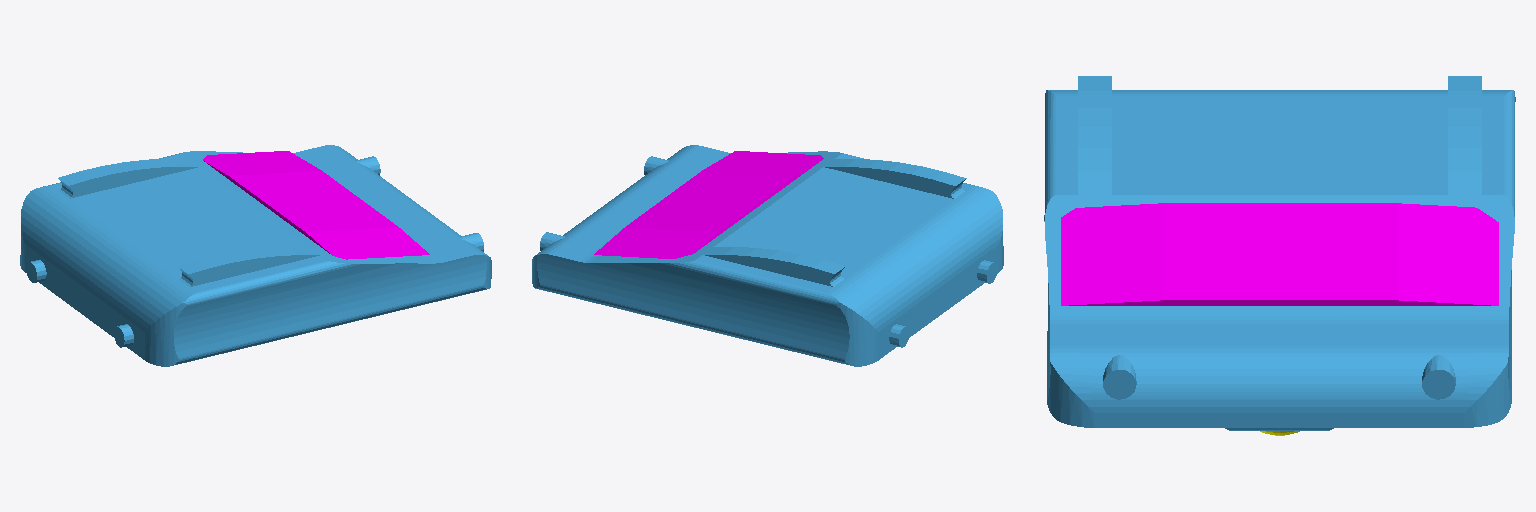
URDF robot description (diff_robot):
<robot name="diff_robot">
    <link name="base_link">  
    </link>
    <joint name="base_joint" type="fixed">
        <parent link="base_link"/>
        <child link="frame_link"/>
        <origin xyz="0.05 0.0 0.0" rpy="0.0 0.0 0.0"/>
    </joint>
    <link name="frame_link">
        <visual>
            <geometry>
                <mesh filename= "package://my_robot/urdf/Frame_final_3.stl" scale="0.01 0.01 0.01"/>
            </geometry>
            <origin xyz=" 0.0 0 0" rpy="1.57 0 3.14"/>
        </visual>
        <inertial>
            <mass value="15.0"/>
            <origin xyz="0.0 0 0"/>
            <inertia ixx="0.1" ixy="0.0" ixz="0.0" iyy="0.1" iyz="0.0" izz="0.1"/>
        </inertial>
        <collision>
            <geometry>
                <mesh filename= "package://my_robot/urdf/Frame_final_3.stl" scale="0.01 0.01 0.01"/>
            </geometry>
            <origin xyz=" 0.0 0 0" rpy="1.57 0 3.14"/>
        </collision>
    </link>
    <joint name="left_wheel_joint" type="continuous">
        <parent link="base_link"/>
        <child link="left_wheel_link"/>
        <origin xyz="0.0 0.08 0.0" rpy="-1.57 0.0 0.0"/>
        <axis xyz="0.0 0.0 1.0"/>   
    </joint>
    <link name="left_wheel_link">
        <visual>
            <geometry>
                <mesh filename= "package://my_robot/meshes/components/wheel.stl" scale="0.8 0.8 0.8"/>
            </geometry>
            <origin xyz="0.0 0.0 0.0" rpy="3.14 0.0 0.0"/>
            <material name="blue">
                <color rgba="0.0 0.0 1.0 1.0"/>
            </material>
        </visual>
        <inertial>
            <mass value="1.0"/>
            <origin xyz="0.0 0.0 0.0"/>
            <inertia ixx="0.1" ixy="0.0" ixz="0.0" iyy="0.1" iyz="0.0" izz="0.1"/>
        </inertial>
        <collision>
            <geometry>
                <mesh filename= "package://my_robot/meshes/components/wheel.stl" scale="0.8 0.8 0.8"/>
            </geometry>
            <origin xyz="0.0 0.0 0.0" rpy="3.14 0.0 0.0"/>
        </collision>
    </link>
    <joint name="right_wheel_joint" type="continuous">
        <parent link="base_link"/>
        <child link="right_wheel_link"/>
        <origin xyz="0.0 -0.08 0.0" rpy="1.57 0.0 0.0"/>
        <axis xyz="0.0 0.0 1.0"/>   
    </joint>
    <link name="right_wheel_link">
        <visual>
            <geometry>
                <mesh filename= "package://my_robot/meshes/components/wheel.stl" scale="0.8 0.8 0.8"/>
            </geometry>
            <origin xyz="0.0 0.0 0.0" rpy="3.14 0.0 0.0"/>
            <material name="blue">
                <color rgba="0.0 0.0 1.0 1.0"/>
            </material>
        </visual>
        <inertial>
            <mass value="1.0"/>
            <origin xyz="0.0 0.0 0.0"/>
            <inertia ixx="0.1" ixy="0.0" ixz="0.0" iyy="0.1" iyz="0.0" izz="0.1"/>
        </inertial>
        <collision>
            <geometry>
                <mesh filename= "package://my_robot/meshes/components/wheel.stl" scale="0.8 0.8 0.8"/>
            </geometry>
            <origin xyz="0.0 0.0 0.0" rpy="3.14 0.0 0.0"/>
        </collision>
    </link>
    <joint name="caster_joint" type="fixed">
        <parent link="base_link"/>
        <child link="caster_link"/>
        <origin xyz="0.19 0.0 0.0"/>        
    </joint>
    <link name="caster_link">
        <visual>
            <geometry>
                <sphere radius="0.015"/>
            </geometry>
            <origin xyz="-0.08 0.0 0.0"/>
            <material name="yellow">
                <color rgba="1.0 1.0 0.0 1.0"/>
            </material>
        </visual>
        <inertial>
            <mass value="1e-5"/>
            <origin xyz="-0.08 0.0 0.0"/>
            <inertia ixx="1e-6" ixy="0" ixz="0" iyy="1e-6" iyz="0" izz="1e-6"/>
        </inertial>
        <collision>
            <geometry>
                <sphere radius="0.015"/>
            </geometry>
            <origin xyz="-0.08 0.0 0.0"/>
        </collision>
    </link>

    <link name="camera_link">
        <visual>
            <geometry>
                <mesh filename= "package://my_robot/urdf/camera_v3.stl" scale="0.01 0.01 0.01"/>
            </geometry>
            <origin xyz="0.0 0.0 0.0"/>
            <material name="Purple">
                <color rgba="1.0 0.0 1.0 1.0"/>
            </material>
        </visual>
        <inertial>
            <mass value="1e-6" />
            <origin xyz="0 0 0" rpy="0 0 0"/>
            <inertia ixx="1e-6" ixy="0" ixz="0" iyy="1e-6" iyz="0" izz="1e-6" />
        </inertial>
        <collision>
            <geometry>
                <mesh filename= "package://my_robot/urdf/camera_v3.stl" scale="0.01 0.01 0.01"/>
            </geometry>
            <origin xyz="0.0 0.0 0.0"/>
        </collision>
    </link>
    <joint name="camera_joint" type="fixed">
        <parent link="base_link"/>
        <child link="camera_link"/>
        <origin xyz="0.08 0.03 0.028" rpy="0.0 -0.1 0.0"/>
    </joint>
    <!-- Transmission -->
    <transmission name="tran1">
        <type>transmission_interface/SimpleTransmission</type>
        <joint name="left_wheel_joint">
            <hardwareInterface>hardware_interface/EffortJointInterface</hardwareInterface>
        </joint>
        <actuator name="motor1">
            <hardwareInterface>hardware_interface/EffortJointInterface</hardwareInterface>
            <mechanicalReduction>1</mechanicalReduction>
        </actuator>
        <velocity_controller name="joint1_velocity_controller">
            <joint name="left_wheel_joint"/>
            <pid>
                <p>1.0</p>   <!-- Proportional gain -->
                <i>0.1</i>   <!-- Integral gain -->
                <d>0.01</d>  <!-- Derivative gain -->
                <i_clamp>1.0</i_clamp>  <!-- Integral clamping value -->
            </pid>
        </velocity_controller>
  </transmission>

  <transmission name="tran2">
    <type>transmission_interface/SimpleTransmission</type>
    <joint name="right_wheel_joint">
        <hardwareInterface>hardware_interface/EffortJointInterface</hardwareInterface>
    </joint>
    <actuator name="motor2">
        <hardwareInterface>hardware_interface/EffortJointInterface</hardwareInterface>
        <mechanicalReduction>1</mechanicalReduction>
    </actuator>
    <velocity_controller name="joint2_velocity_controller">
        <joint name="right_wheel_joint"/>
        <pid>
            <p>1.0</p>   <!-- Proportional gain -->
            <i>0.1</i>   <!-- Integral gain -->
            <d>0.01</d>  <!-- Derivative gain -->
            <i_clamp>1.0</i_clamp>  <!-- Integral clamping value -->
        </pid>
    </velocity_controller>
  </transmission>

    <!-- Gazebo -->
    <gazebo reference="frame_link">
        <material>Gazebo/Orange</material>
    </gazebo>
    <gazebo reference="left_wheel_link">
        <material>Gazebo/Blue</material>
    </gazebo>
    <gazebo reference="right_wheel_link">
        <material>Gazebo/Blue</material>
    </gazebo>
    <gazebo reference="caster_link">
        <material>Gazebo/Yellow</material>
    </gazebo>
    <!-- camera -->
    <gazebo reference="camera_link">
        <material>Gazebo/White</material>
        <sensor type="camera" name="camera1">
        <update_rate>30.0</update_rate>
        <camera name="head">
            <horizontal_fov>1.2</horizontal_fov>
            <image>
                <width>800</width>
                <height>800</height>
                <format>R8G8B8</format>
            </image>
            <clip>
                <near>0.02</near>
                <far>300</far>
            </clip>
            <noise>
            <type>gaussian</type>
                <!-- Noise is sampled independently per pixel on each frame.
                    That pixel's noise value is added to each of its color
                    channels, which at that point lie in the range [0,1]. -->
                <mean>0.0</mean>
                <stddev>0.007</stddev>
            </noise>
        </camera>
        <plugin name="camera_controller" filename="libgazebo_ros_camera.so">
            <alwaysOn>true</alwaysOn>
            <updateRate>0.0</updateRate>
            <cameraName>my_robot/camera1</cameraName>
            <imageTopicName>image_raw</imageTopicName>
            <cameraInfoTopicName>camera_info</cameraInfoTopicName>
            <frameName>camera_link</frameName>
            <hackBaseline>0.07</hackBaseline>
            <distortionK1>0.0</distortionK1>
            <distortionK2>0.0</distortionK2>
            <distortionK3>0.0</distortionK3>
            <distortionT1>0.0</distortionT1>
            <distortionT2>0.0</distortionT2>
        </plugin>
        </sensor>
    </gazebo>

    <gazebo>
        <plugin name="gazebo_ros_control" filename="libgazebo_ros_control.so">
            <robotNamespace>/my_diffbot</robotNamespace>
        </plugin>
    </gazebo>

</robot>

--- Facts derived from the render (not from the file) ---
Views: 3 orthographic renders of the robot side by side, from view 1: azimuth 30°, elevation 25°; view 2: azimuth 150°, elevation 25°; view 3: azimuth 270°, elevation 25°.
Model diff_robot with 6 links and 5 joints (2 continuous, 3 fixed), rooted at base_link, posed all joints at 0.
Links seen in each view (by area): view 1: frame_link, camera_link; view 2: frame_link, camera_link; view 3: frame_link, camera_link.
Link boxes in pixels (x1,y1,x2,y2): frame_link: (20,145,491,366); camera_link: (203,151,429,259); frame_link: (532,145,1003,366); camera_link: (594,151,823,258); frame_link: (1044,76,1515,430); camera_link: (1061,203,1498,305).
Size in the robot's own frame: 0.1852 by 0.14 by 0.0564 metres.
2 mesh visuals loaded from 3 distinct referenced files (2 binary STL); not drawn: 2 (reference not matched to a file when rendering).